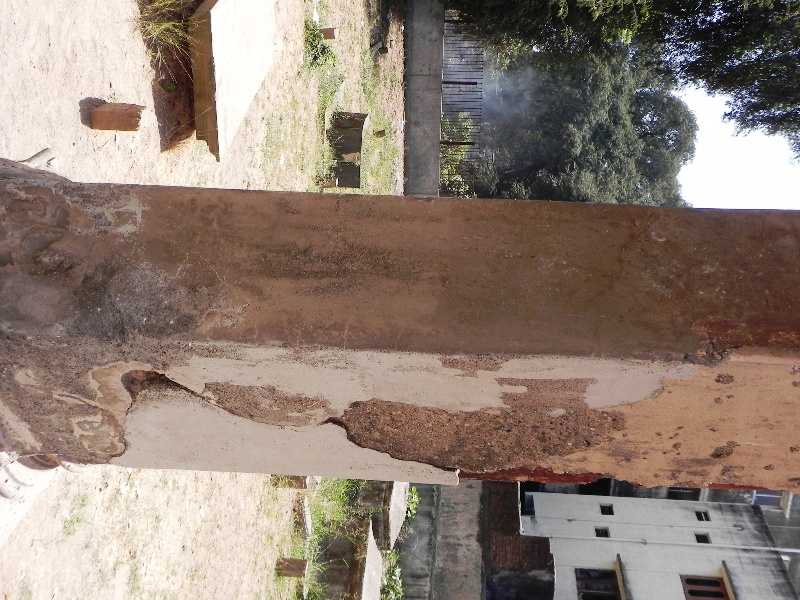Spalling: (327, 383, 624, 485), (117, 362, 196, 405)
